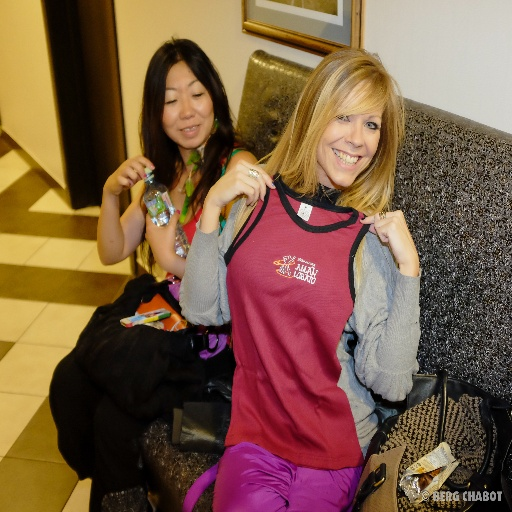hand: (358, 207, 418, 266), (219, 151, 271, 218), (141, 210, 183, 270), (103, 153, 157, 198)
